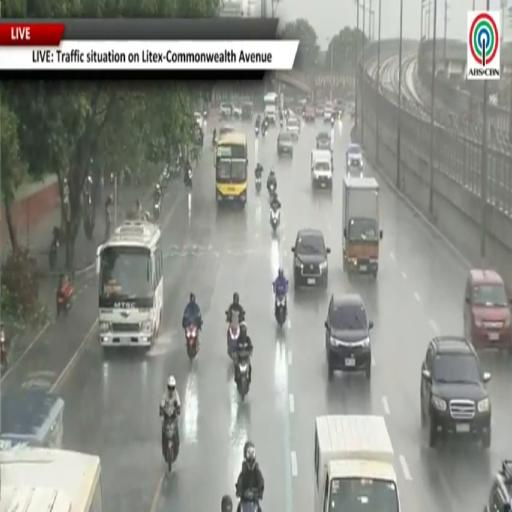bus: (96, 221, 163, 347), (0, 447, 103, 511), (215, 133, 248, 204), (264, 92, 278, 122)
car: (421, 335, 491, 449), (325, 294, 373, 379), (0, 389, 64, 451), (464, 269, 511, 350), (292, 229, 330, 290), (484, 460, 511, 511), (346, 143, 363, 171), (277, 132, 293, 156), (286, 117, 300, 140), (316, 133, 331, 150), (219, 103, 233, 118), (242, 102, 253, 120), (303, 106, 315, 122), (323, 104, 333, 122), (194, 112, 203, 129), (232, 105, 241, 119), (315, 104, 323, 117)
motorcycle: (161, 408, 178, 472), (236, 351, 250, 401), (57, 278, 74, 317), (226, 312, 239, 359), (186, 324, 199, 360), (49, 227, 59, 270), (240, 489, 258, 511), (275, 295, 287, 327), (0, 323, 7, 370), (270, 208, 280, 232), (185, 168, 193, 188), (153, 201, 160, 220), (268, 182, 276, 198), (255, 176, 261, 194), (212, 134, 217, 147), (262, 126, 266, 137), (255, 125, 259, 136), (280, 119, 282, 127)
truck: (315, 415, 400, 511), (343, 176, 383, 277)
